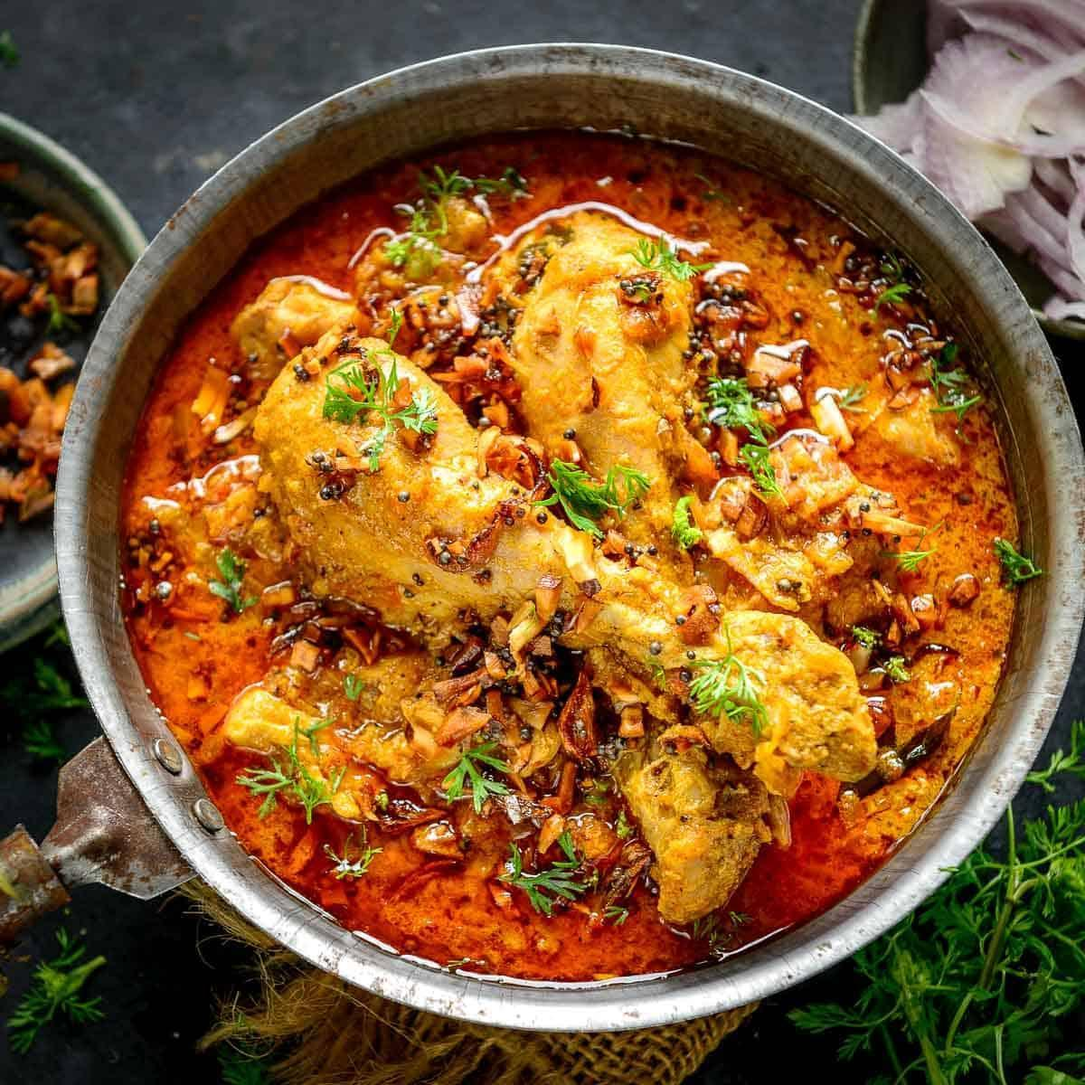chicken: (190, 143, 983, 940)
